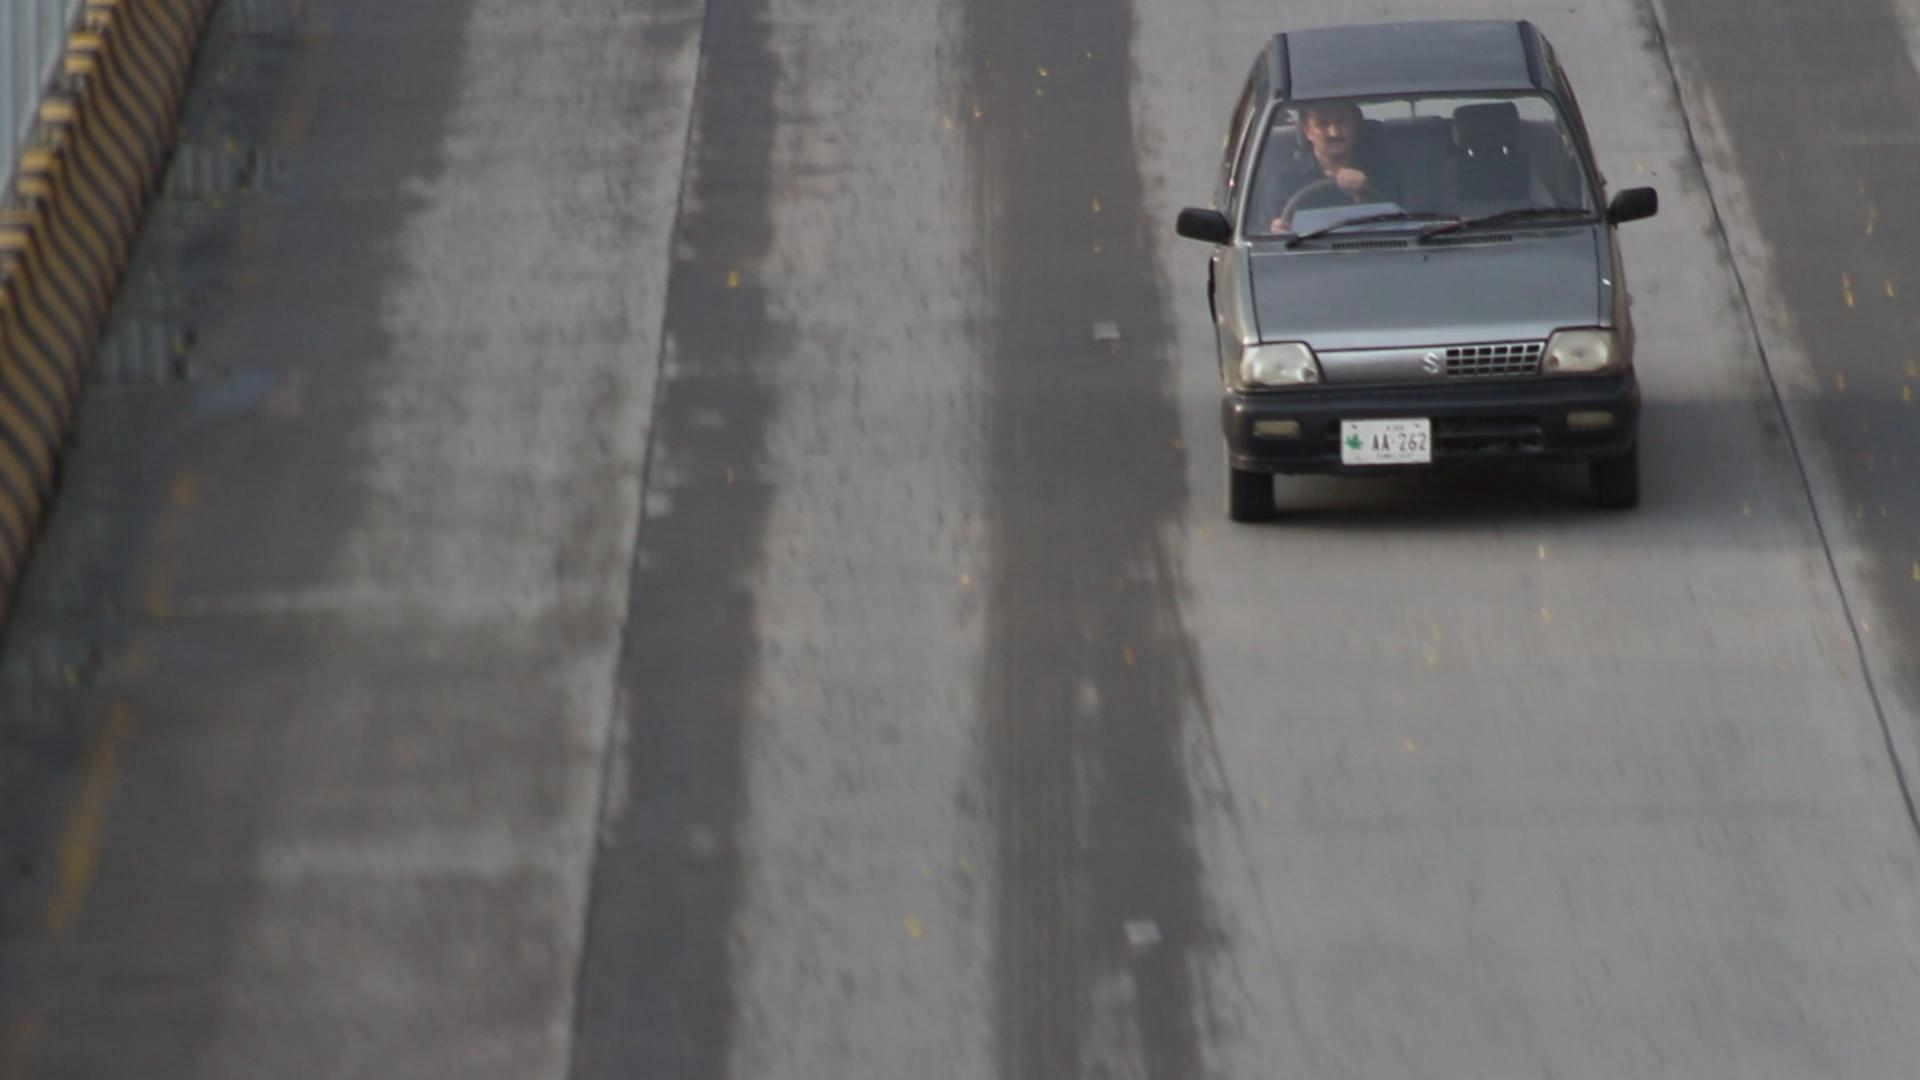windshield: (1224, 70, 1621, 260)
